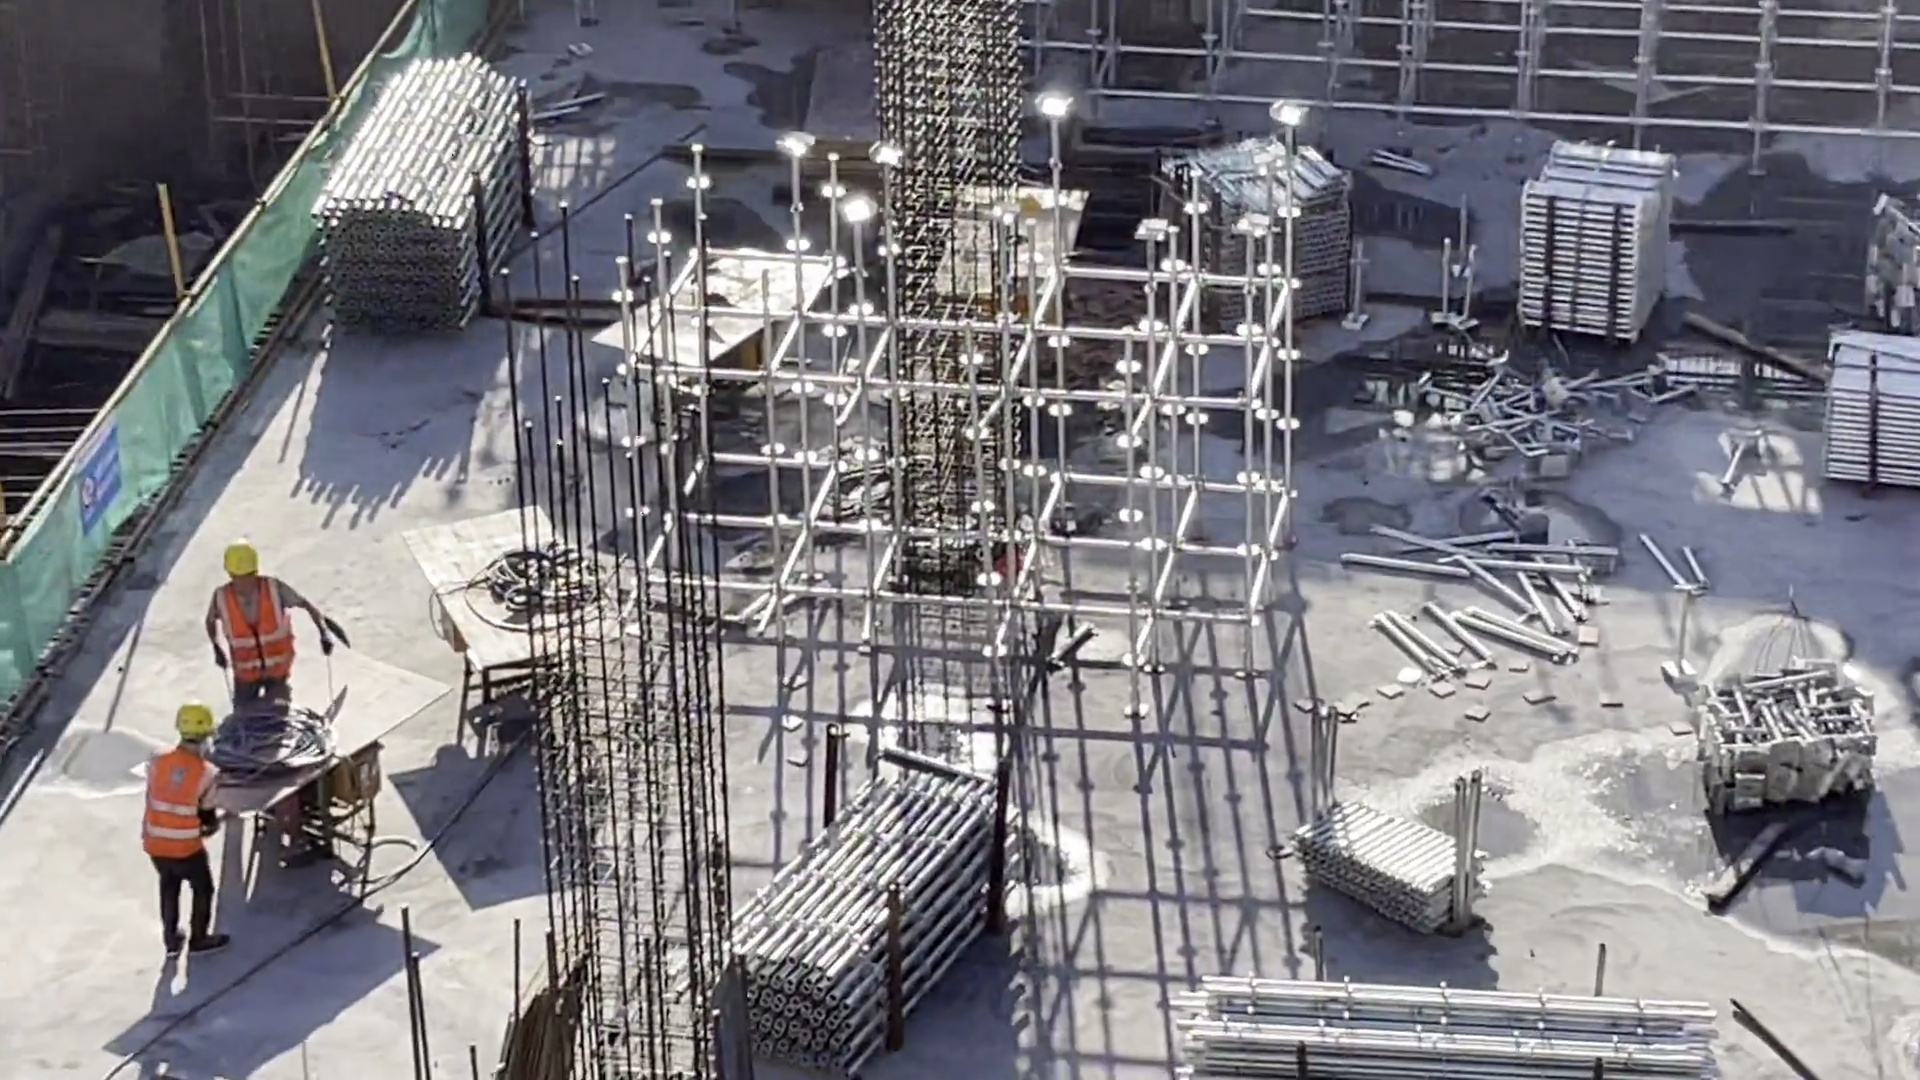board: (506, 935, 583, 1078)
cutter: (193, 635, 434, 887), (412, 509, 589, 753), (611, 223, 793, 443), (925, 171, 1084, 358)
helmet: (214, 537, 270, 597), (163, 698, 223, 742)
person: (143, 704, 234, 949), (207, 545, 341, 709)
scaffold: (1143, 946, 1763, 1080), (758, 776, 1001, 1061), (353, 49, 538, 351), (1523, 117, 1683, 359), (1687, 642, 1875, 823), (1283, 793, 1499, 933), (1194, 133, 1354, 321), (1807, 313, 1920, 514), (1466, 369, 1643, 471)
slogan: (63, 415, 137, 543)
vest: (204, 589, 300, 683), (143, 752, 204, 861)
